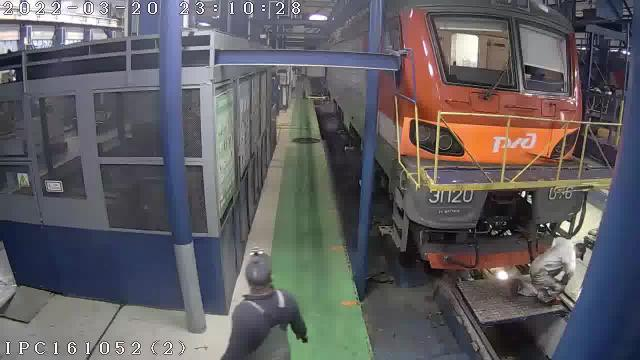person: (221, 249, 307, 359), (512, 238, 586, 303)
train: (376, 0, 586, 269)
